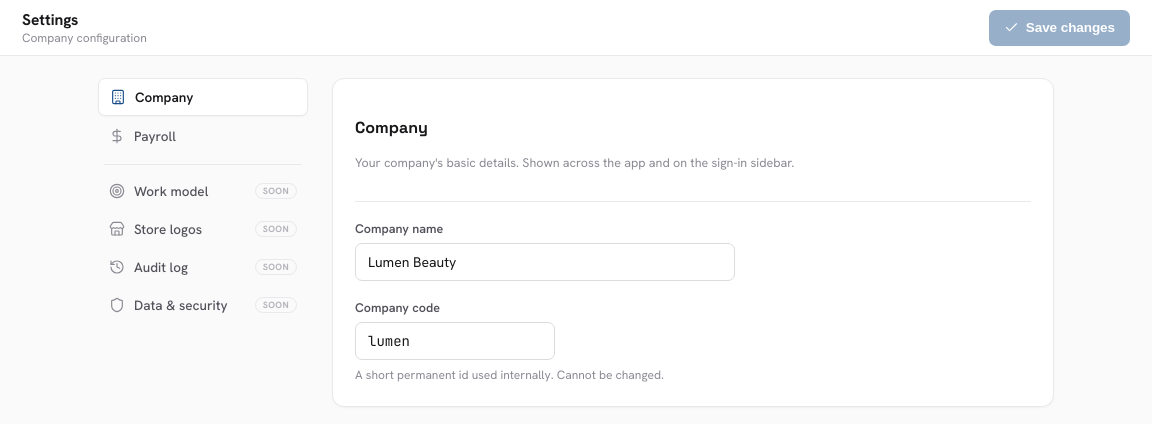
Test: Settings page › switching to a coming-soon section shows the placeholder
expect the field showing "Lumen Beauty" is shown: met, box left=355, top=243, right=735, bottom=281
Click the button "Work model soon": [203, 191] box left=98, top=173, right=308, bottom=209
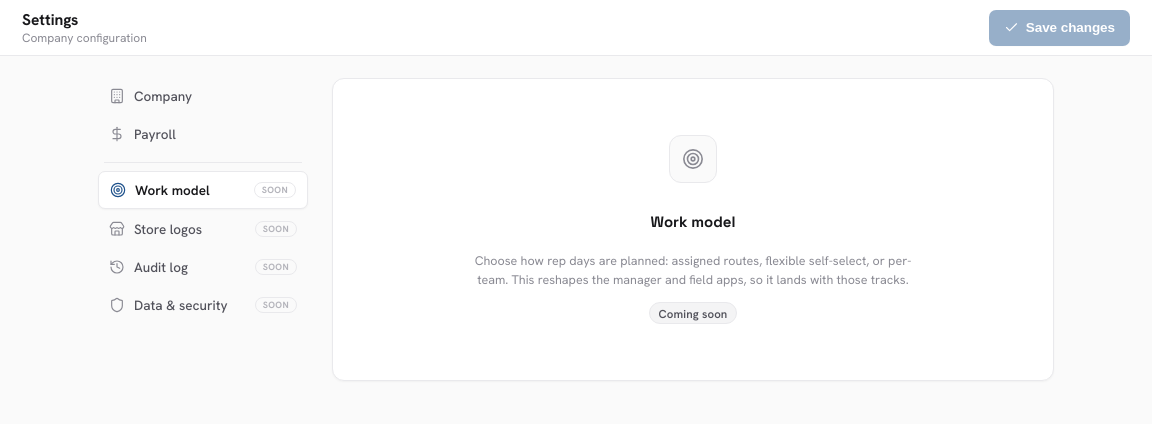
expect the text "Coming soon" is shown: met, box left=649, top=302, right=737, bottom=324
